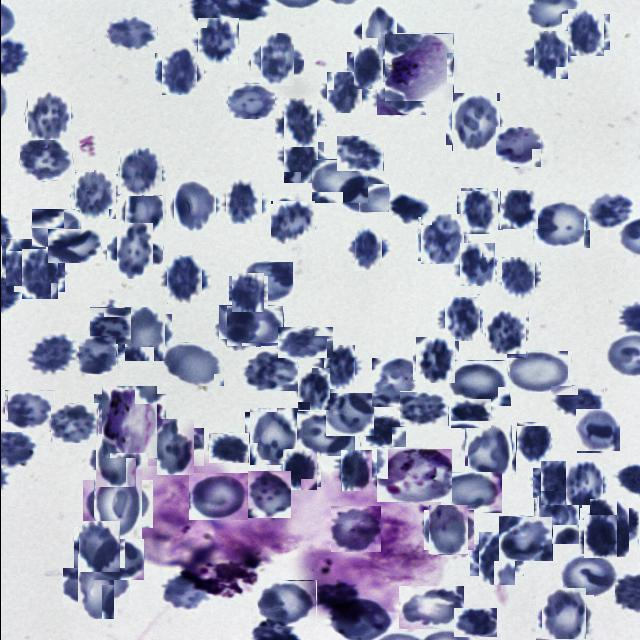difficult: (384, 33, 453, 101), (97, 390, 161, 454)
red blood cell: (88, 474, 146, 534), (446, 360, 510, 406), (448, 94, 501, 148), (532, 199, 590, 248), (397, 586, 462, 629), (188, 473, 247, 520), (506, 350, 572, 392), (247, 410, 300, 462), (257, 580, 316, 626), (162, 342, 223, 386), (296, 412, 354, 458), (462, 426, 513, 477), (70, 560, 120, 612), (538, 591, 590, 640), (311, 159, 368, 203), (440, 472, 501, 513), (18, 135, 72, 181), (498, 516, 552, 561), (584, 503, 633, 552), (241, 349, 297, 391), (371, 358, 419, 407), (23, 90, 70, 140), (226, 305, 283, 346), (170, 181, 218, 229), (91, 436, 139, 484), (330, 506, 380, 552), (418, 216, 466, 263), (120, 311, 168, 358), (75, 524, 122, 570), (152, 424, 198, 471), (562, 554, 614, 595), (121, 188, 167, 234), (534, 498, 580, 544), (355, 8, 401, 54), (111, 228, 157, 274), (4, 390, 54, 432), (160, 572, 212, 612), (72, 172, 117, 218), (118, 150, 164, 195), (194, 19, 240, 64), (325, 393, 373, 436), (247, 472, 290, 520), (93, 539, 143, 580), (585, 190, 636, 230), (425, 508, 470, 552), (16, 252, 61, 296), (338, 174, 389, 212), (106, 13, 157, 51), (474, 536, 518, 580), (254, 38, 298, 82), (3, 240, 47, 284), (575, 408, 619, 452), (270, 200, 314, 244), (28, 334, 74, 376), (50, 403, 98, 443), (243, 262, 292, 301), (162, 258, 205, 302), (495, 126, 541, 167), (376, 77, 425, 115), (31, 209, 80, 247), (414, 338, 456, 382), (158, 49, 200, 92), (47, 229, 100, 263), (277, 326, 333, 358), (484, 310, 526, 352), (216, 307, 258, 349), (564, 11, 606, 53), (528, 34, 570, 76), (440, 297, 482, 339), (278, 102, 320, 144), (458, 190, 500, 232), (227, 84, 275, 120), (550, 385, 604, 417), (399, 391, 448, 426), (336, 135, 383, 171), (223, 180, 263, 222), (279, 140, 320, 180), (564, 462, 604, 503), (456, 246, 496, 286), (89, 307, 131, 344), (513, 423, 552, 462), (498, 260, 538, 298), (359, 415, 406, 447), (324, 74, 363, 112), (78, 335, 116, 374), (499, 191, 538, 229), (536, 464, 574, 502), (320, 348, 358, 386), (580, 518, 618, 556), (280, 451, 318, 488), (349, 48, 386, 86), (294, 370, 331, 408), (337, 453, 374, 489), (230, 274, 266, 310), (350, 232, 385, 268), (453, 608, 496, 637), (450, 398, 491, 428), (208, 433, 248, 463)
trophozoite: (376, 448, 452, 502)
